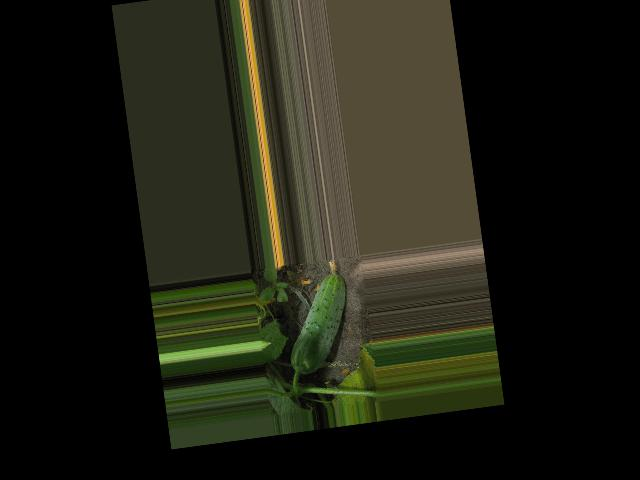cucumber: (278, 257, 357, 375)
